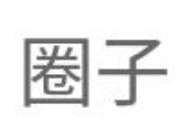TextView: (1, 1, 188, 139)
